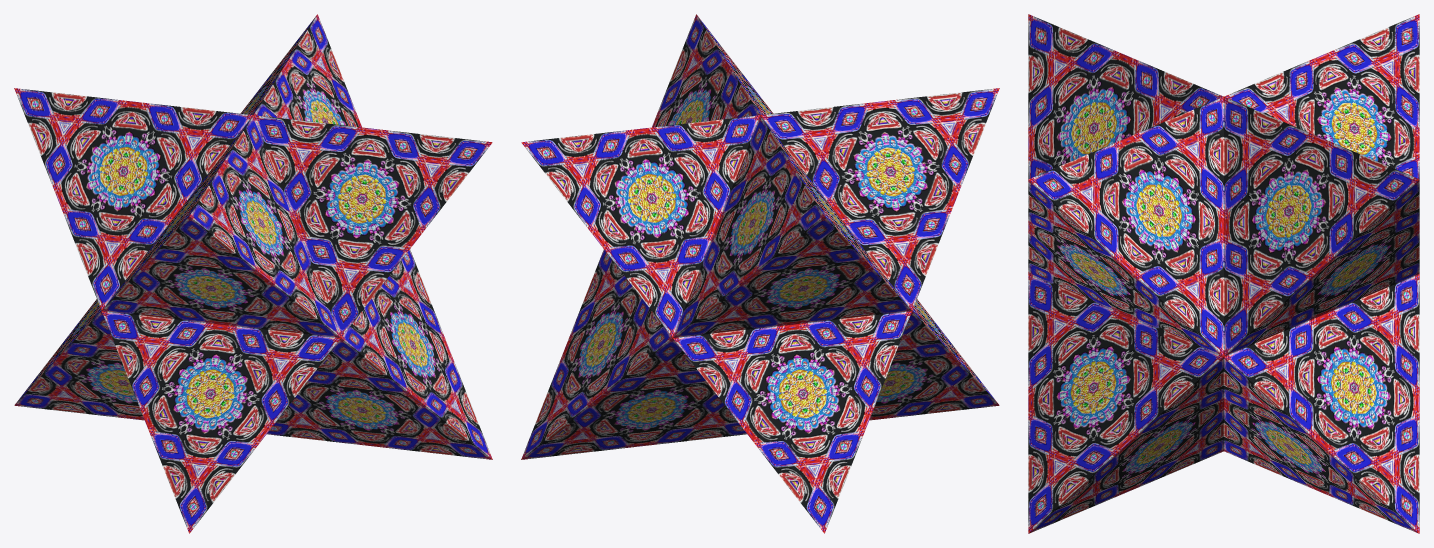
File: StellaOctangula1.obj
3 views of the same model, side by side, from view 1: azimuth 30°, elevation 25°; view 2: azimuth 150°, elevation 25°; view 3: azimuth 270°, elevation 25° (orthographic). The views are drawn at different scales.
Bounding box in the file's own units: 0.7071 × 0.7071 × 0.7071.
Materials: 1 (1 with a texture image).
